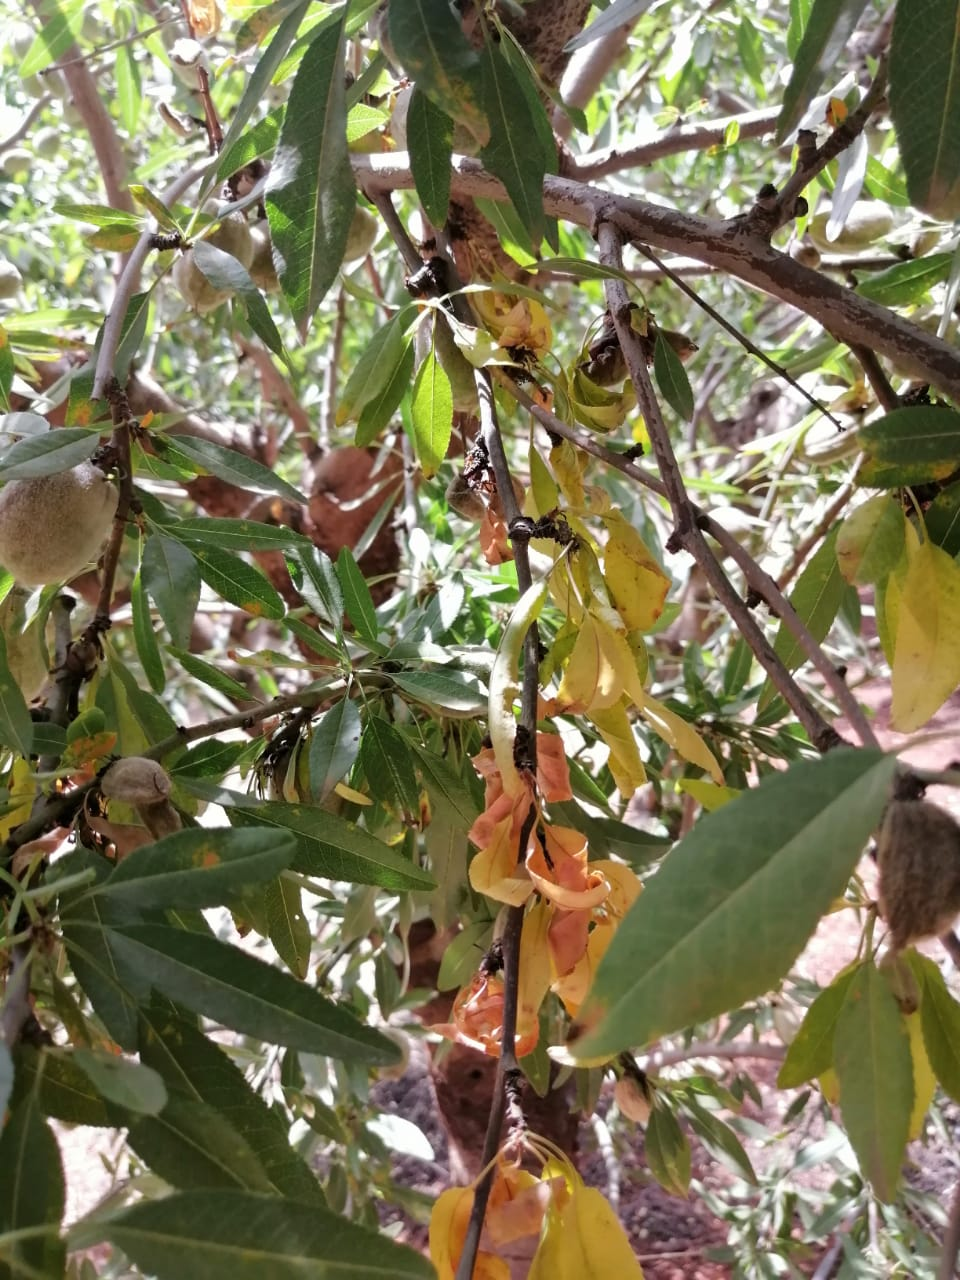chancre fusicocum: (428, 515, 724, 1280)
